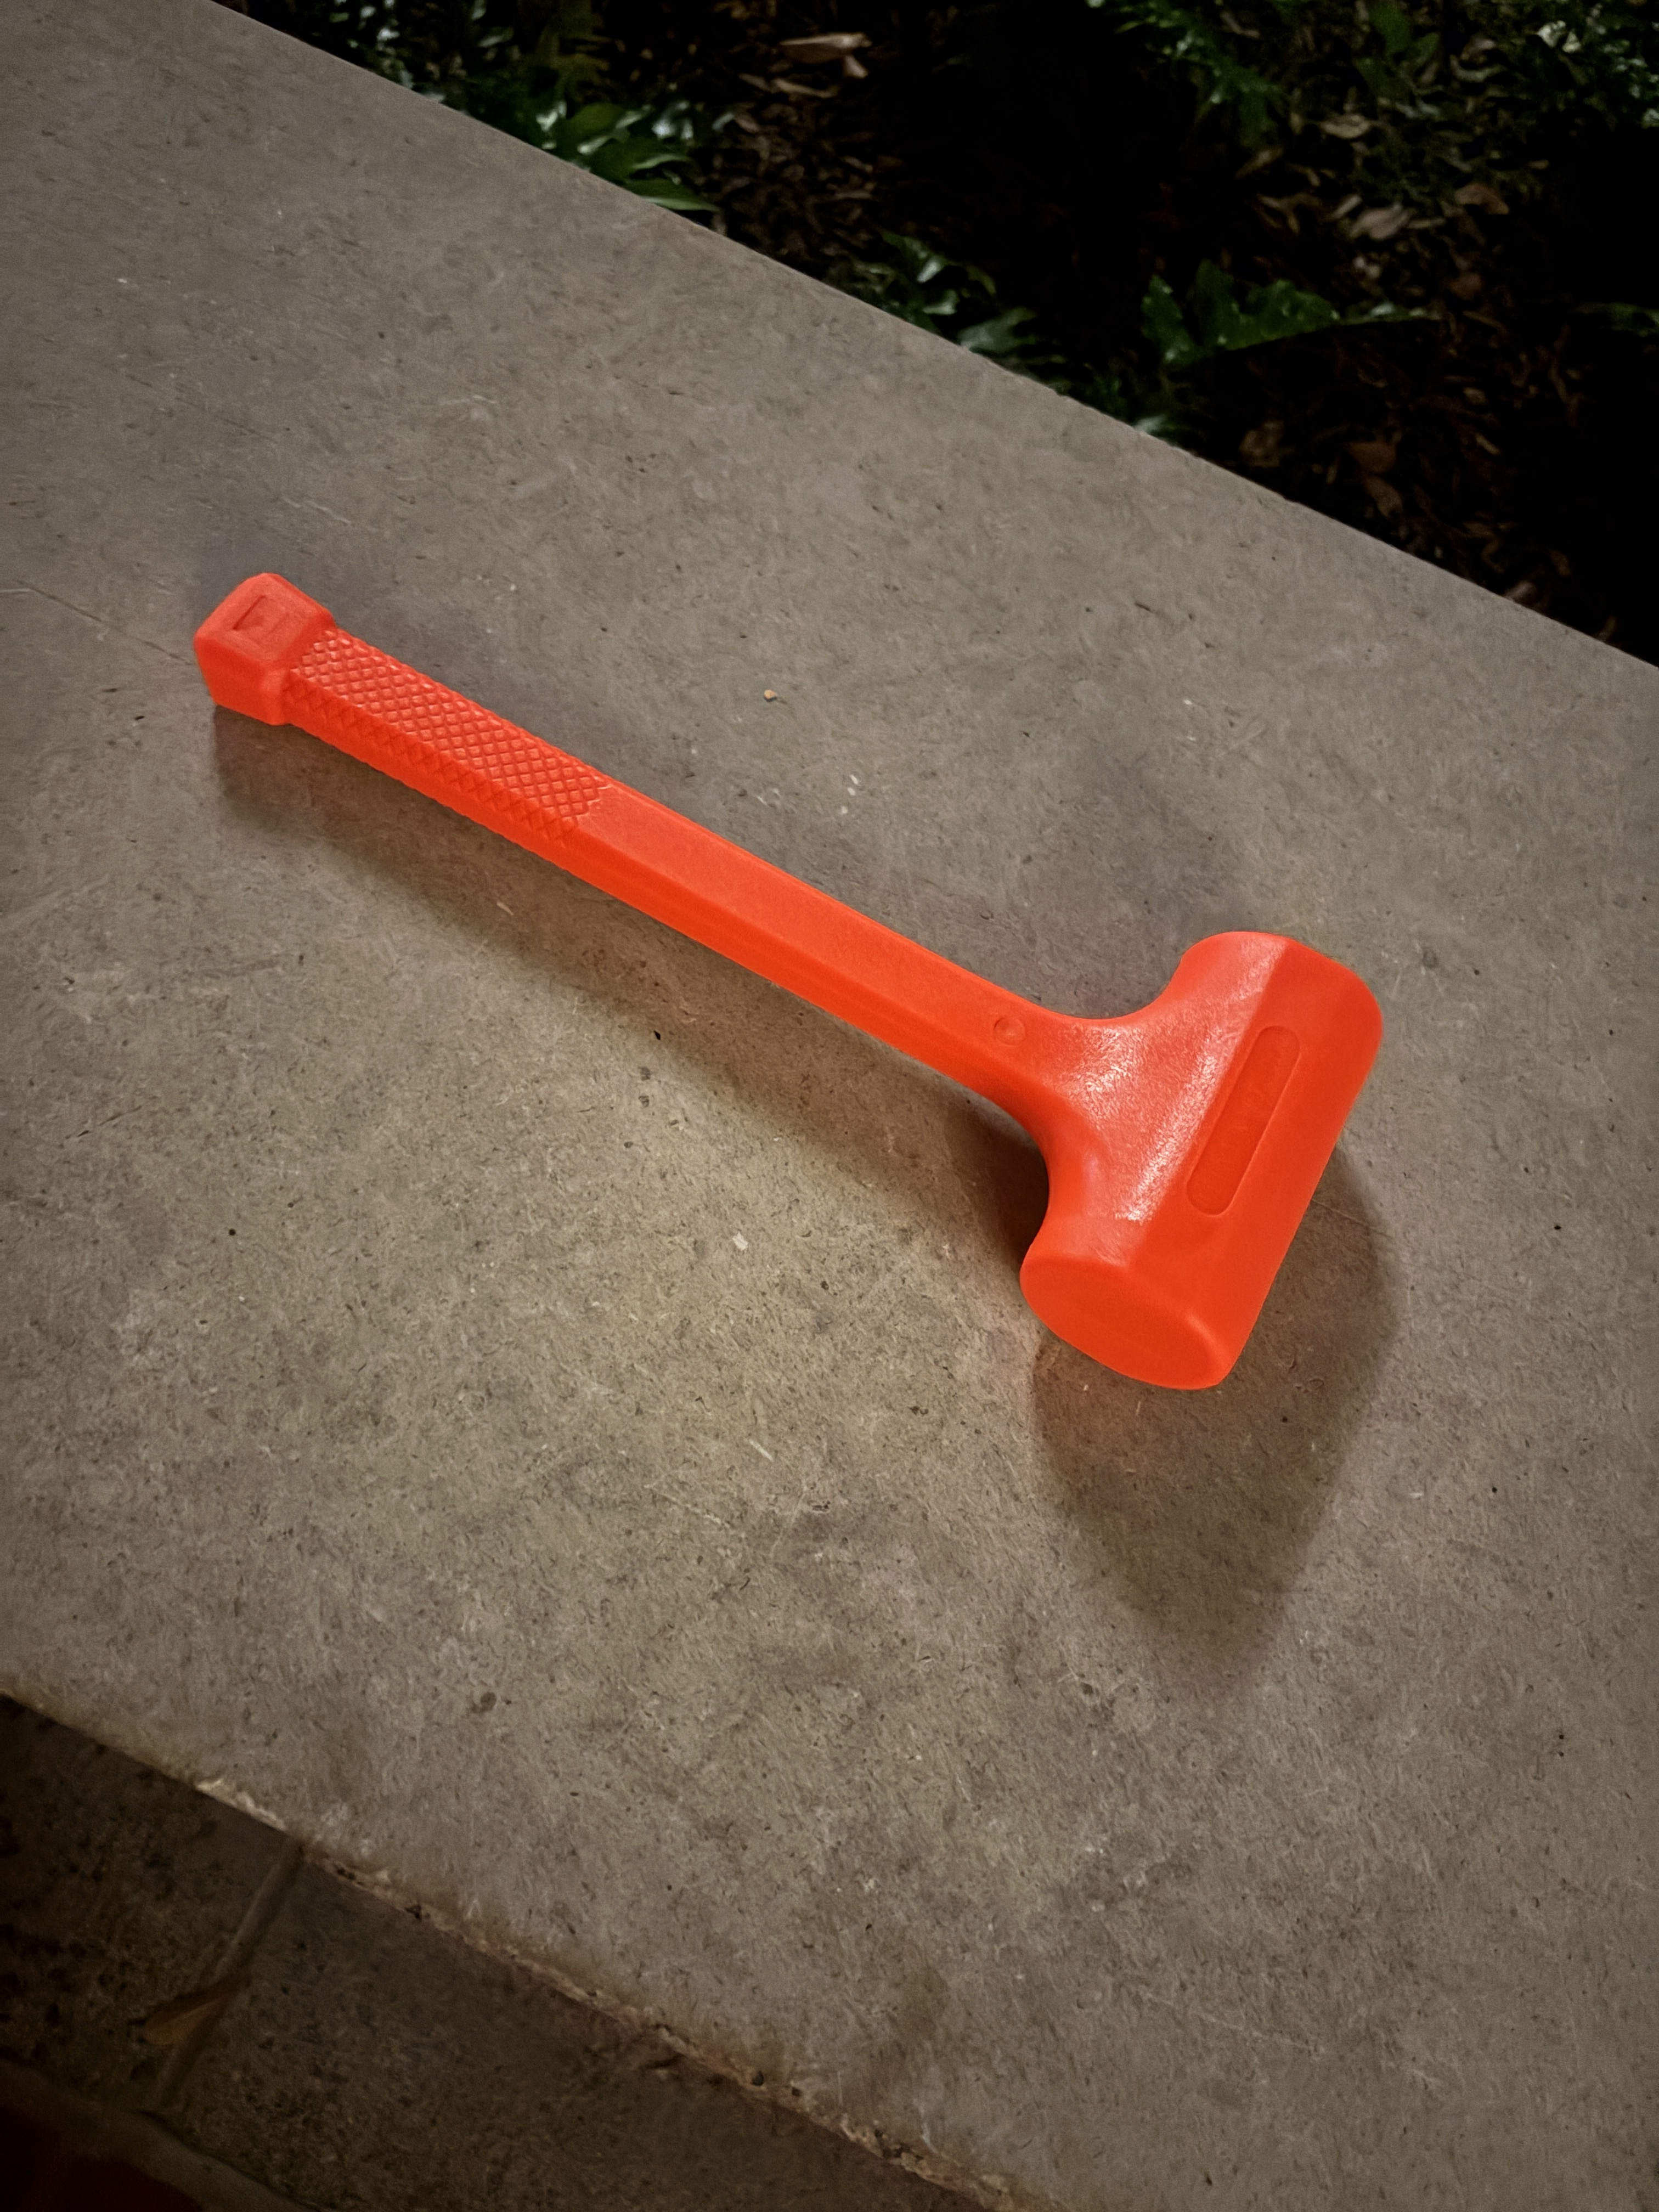Hammer: (166, 481, 1415, 1428)
